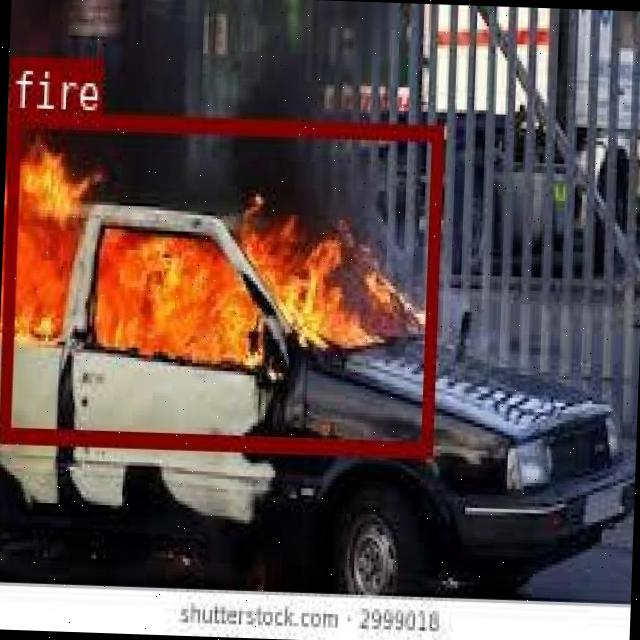fire: (0, 109, 440, 454)
